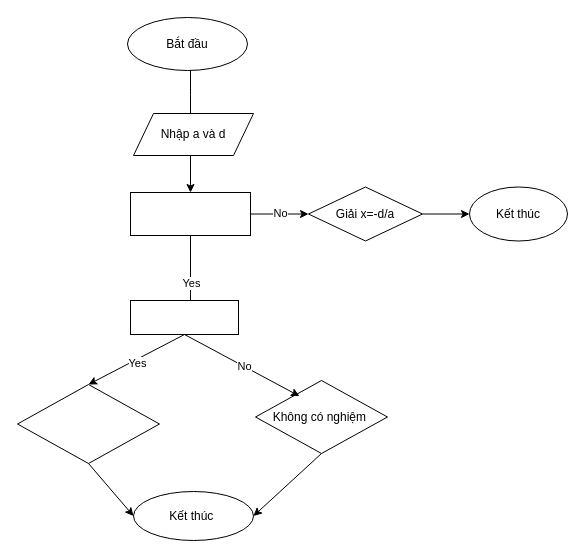
Some shapes in this 585 by 558 pixel diagram are drawn without their labels. The shapes that lost their labels are listed below. From the top down, each one's centre as x and y in pixels, then its label:
At pixel 190 214: "Kiểm tra a == 0 ?".
At pixel 184 317: "Kiểm tra d ?".
At pixel 88 424: "Vô số nghiệm".
